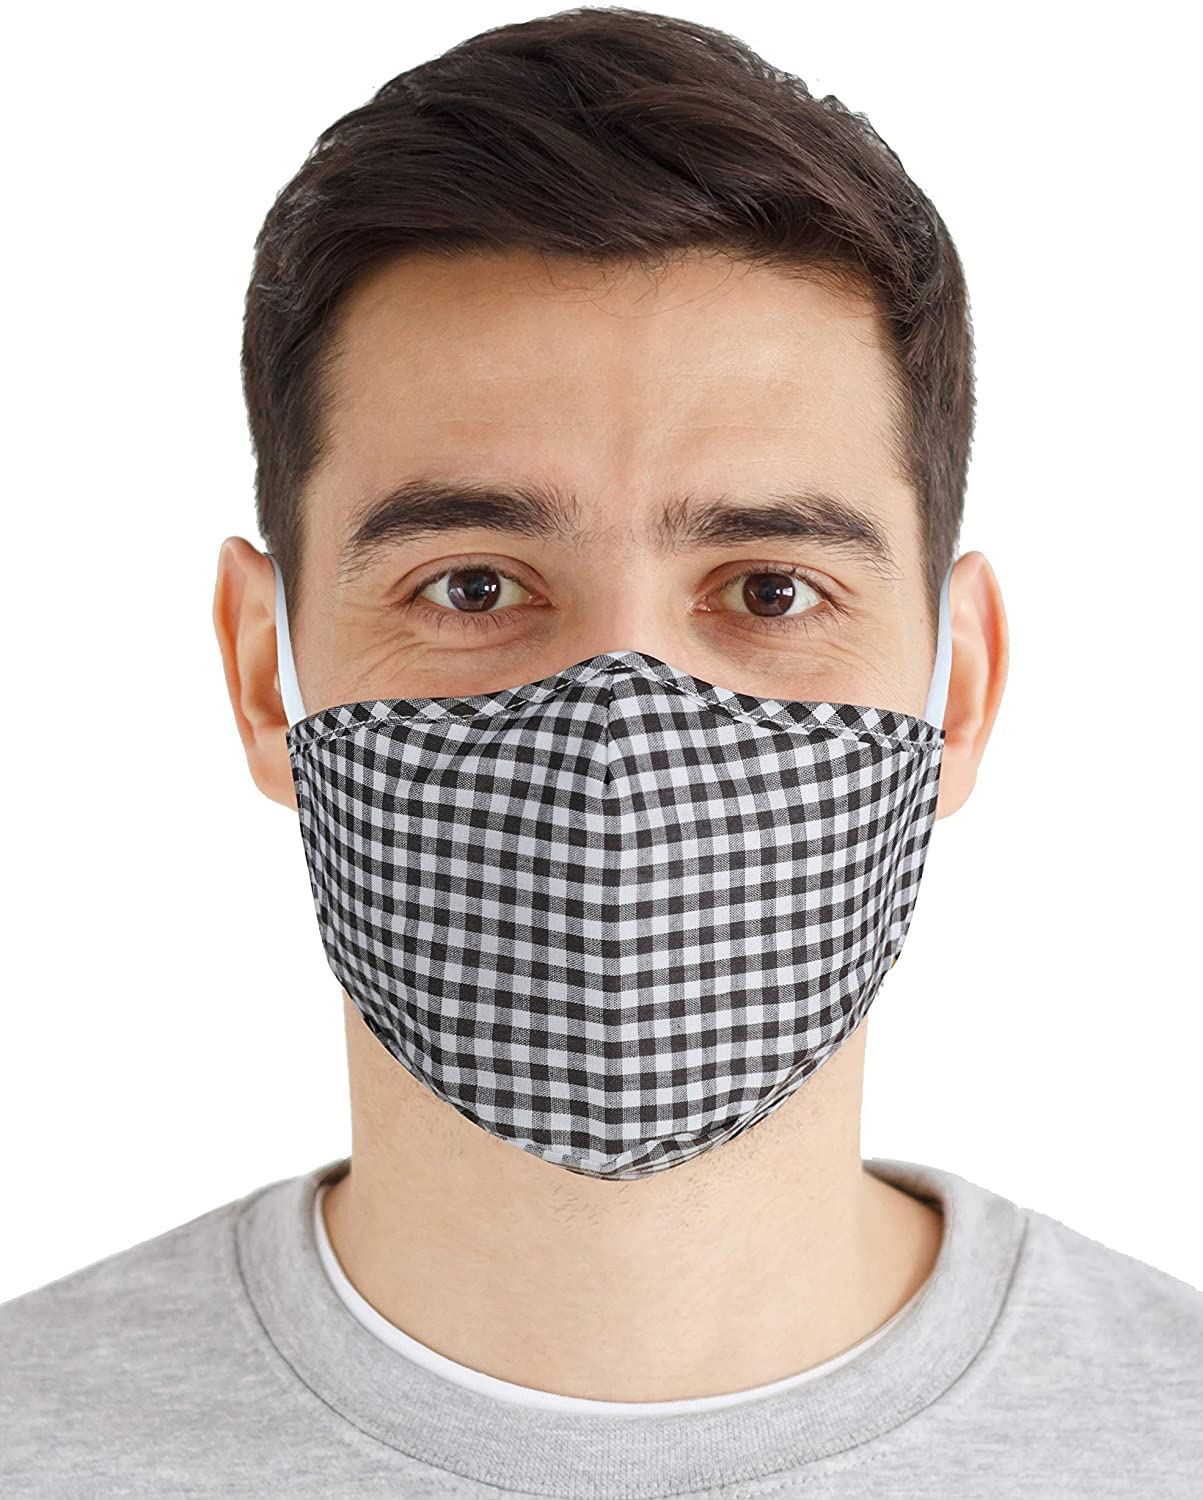mask: (165, 12, 1017, 1216)
